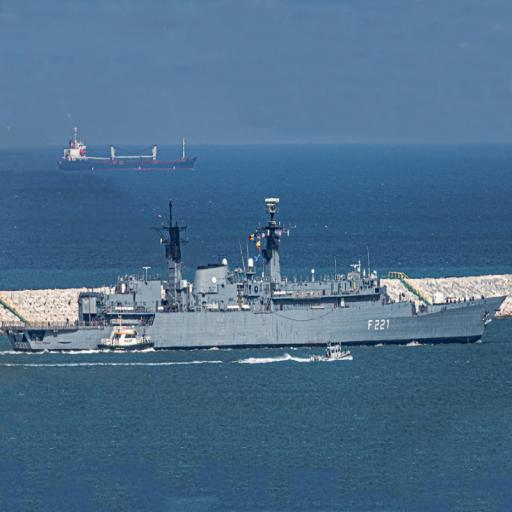Fragata: (5, 176, 510, 357)
